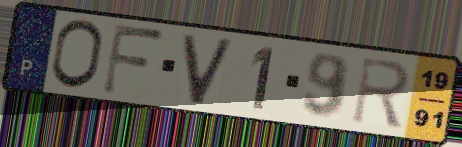1: (250, 45, 274, 111)
9: (301, 51, 350, 121)
F: (99, 21, 167, 98)
O: (48, 18, 107, 92)
R: (349, 54, 413, 131)
V: (180, 32, 236, 108)
